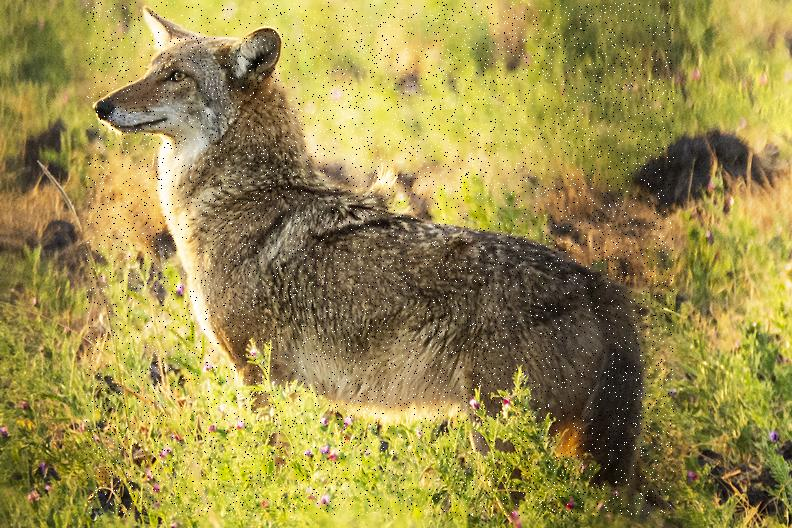Coyote: (86, 2, 674, 516)
